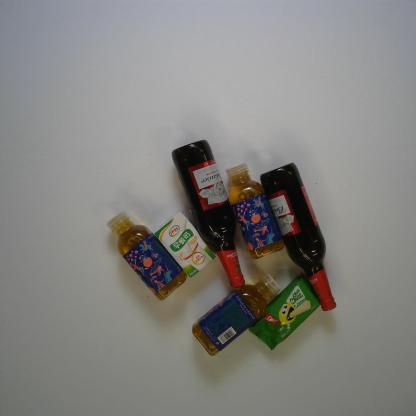Alcohol: (258, 160, 338, 312), (171, 138, 246, 290)
Dessert: (247, 271, 321, 352)
Drink: (191, 272, 281, 358), (105, 209, 188, 302), (224, 161, 285, 261)
Milk: (153, 210, 217, 280)
